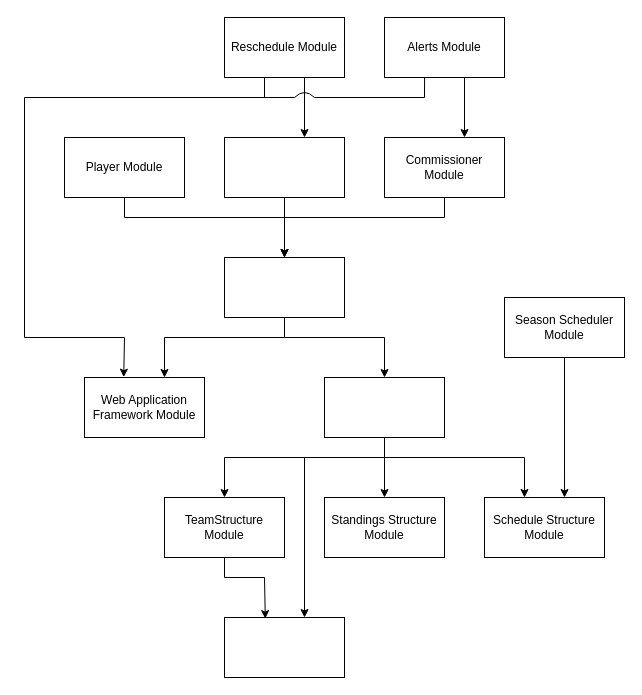
The diagram is 642 pixels wide and 695 high, and some of its shapes have lost their labels. The centre of each missing label's shape, as x and y in pixels:
Account Structure Module: (x=284, y=647)
Accounts Module: (x=284, y=287)
Database Module: (x=384, y=407)
Team Module: (x=284, y=167)
